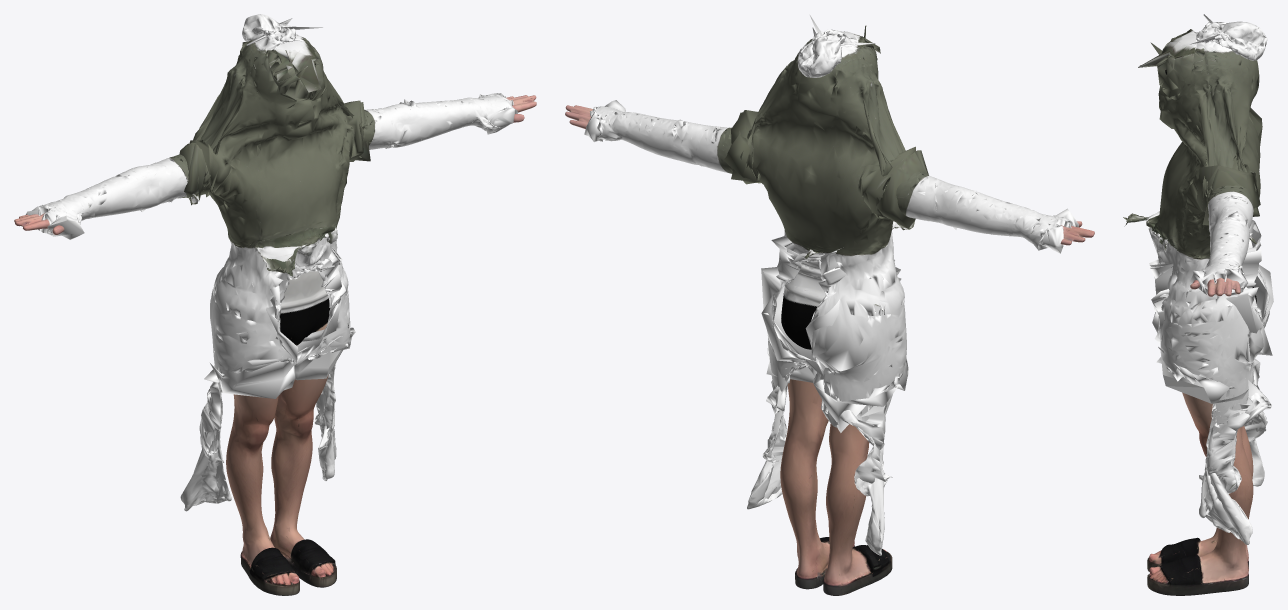
The model's file is bf59bade-555e-41db-ae0f-11aa2adb8b8f-full.glb.
The picture shows the model from 3 angles, left to right: view 1: azimuth 30°, elevation 25°; view 2: azimuth 150°, elevation 25°; view 3: azimuth 270°, elevation 25°; orthographic projection.
Visible parts, largest first — view 1: Mesh_0.001, Body_Feet; view 2: Mesh_0.001, Body_Feet; view 3: Mesh_0.001, Body_Feet.
Part boxes in pixels (box(x1,y1,x2,y2)): Mesh_0.001: box(25, 14, 517, 511); Body_Feet: box(14, 95, 536, 595); Mesh_0.001: box(584, 15, 1078, 555); Body_Feet: box(565, 105, 1094, 595); Mesh_0.001: box(1123, 14, 1273, 545); Body_Feet: box(1147, 69, 1256, 595).
Bounding box in the file's own units: 1.91 × 1.91 × 0.4703.
Materials: 2 (2 with a texture image).
